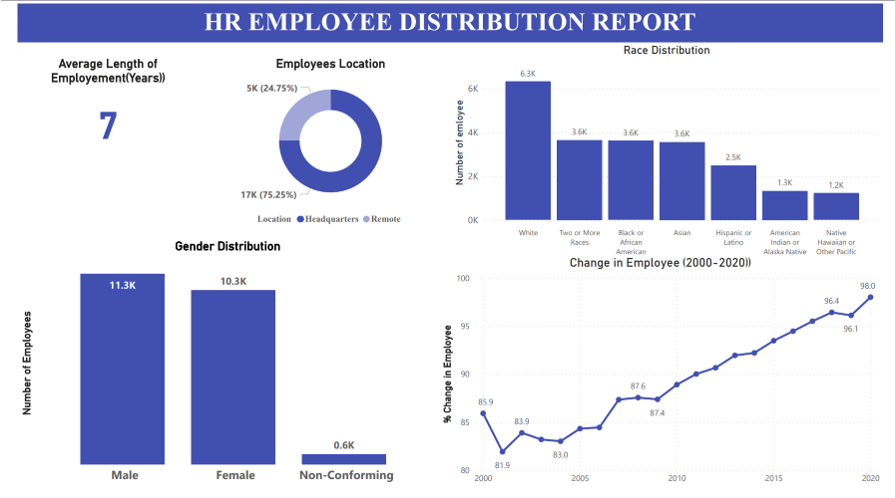

What the dashboard file says about the page in this screenshot:
{"tool":"powerbi","page":{"name":"Page 1","canvas":[1280,720],"ordinal":0},"visuals":[{"type":"textbox","box":[0,0,1279.8,56.6],"z":0},{"type":"card","title":"Average Length of Employement(Years))","fields":{"Values":["Sum(Avg_len_employement.Column1)"]},"box":[0,77.5,268.3,151.2],"z":1000},{"type":"columnChart","title":"Gender Distribution","fields":{"Category":["gender.Column1"],"Y":["Sum(gender.Column2)"]},"box":[0,347.9,622.9,372.1],"z":2000},{"type":"donutChart","title":"Employees Location","fields":{"Y":["Sum(location.Column2)"],"Category":["location.Column1"]},"box":[286.4,77.7,354.3,260.5],"z":3000},{"type":"lineChart","title":"Change in Employee (2000-2020))","fields":{"Category":["EmployeeCount_overYearChange.Year"],"Y":["Sum(EmployeeCount_overYearChange.net_change_percent)"]},"box":[623.3,371.7,656.7,348.3],"z":4000},{"type":"clusteredColumnChart","title":"Race Distribution","fields":{"Y":["Sum(race.Column2)"],"Category":["race.Column1"]},"box":[640,58.3,640,336.7],"z":5000}]}

Visuals, with their boxes in screenshot pixels (x1, y1, x2, y2), scaled from the page's 1280x720 canvas onto the 895x498 screenshot:
textbox: BBox(0, 0, 894, 39)
"Average Length of Employement(Years))" card: BBox(0, 54, 188, 158)
"Gender Distribution" columnChart: BBox(0, 241, 436, 497)
"Employees Location" donutChart: BBox(200, 54, 448, 234)
"Change in Employee (2000-2020))" lineChart: BBox(436, 257, 894, 497)
"Race Distribution" clusteredColumnChart: BBox(448, 40, 894, 273)
